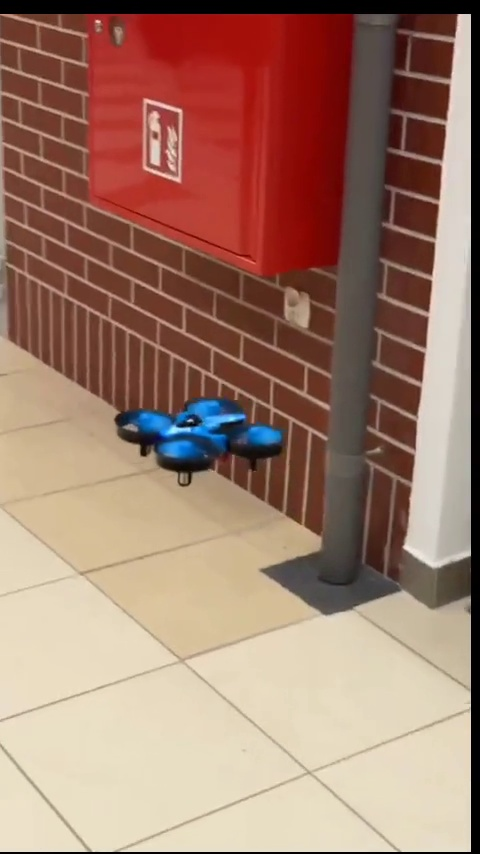drone: (118, 391, 281, 492)
